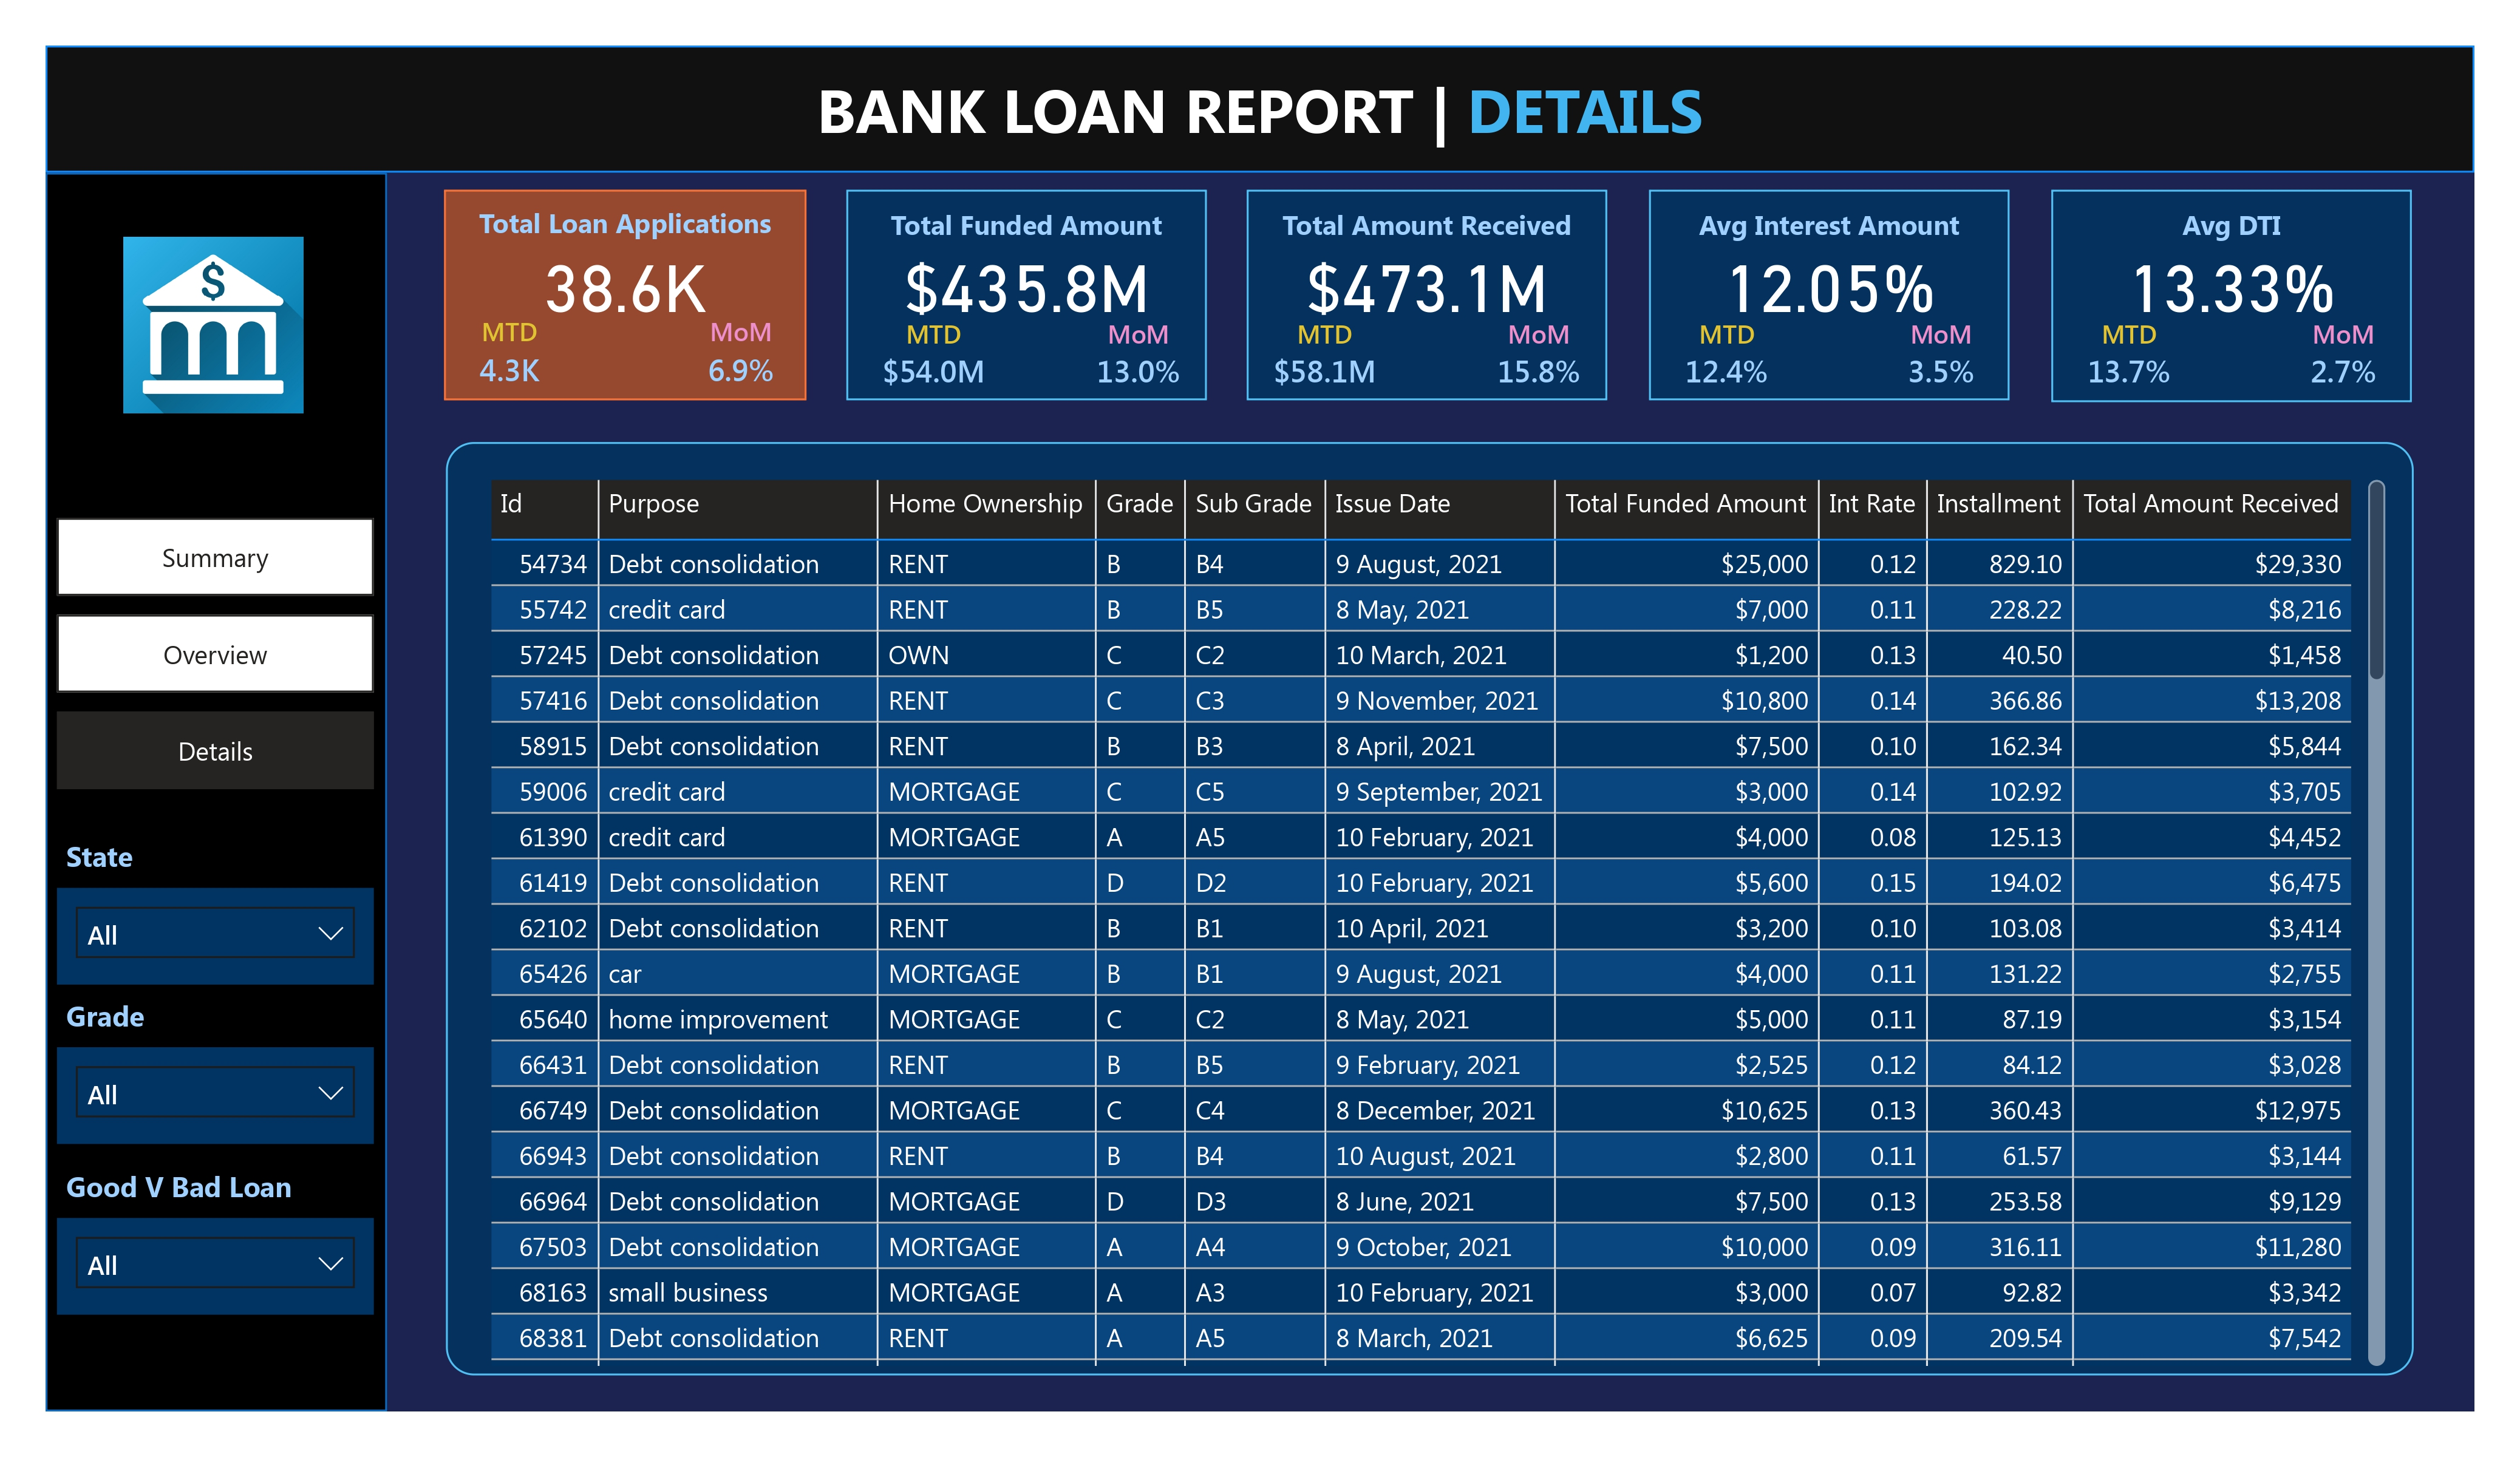

Layout of this report page (visuals, bound fields, positions):
{"tool":"powerbi","page":{"name":"Details","canvas":[1280,720],"ordinal":2},"visuals":[{"type":"group","id":"g1","title":"Group 1","box":[0,0,1280,67.1],"z":0},{"type":"shape","box":[0,0,1280,67.1],"z":0,"group":"g1"},{"type":"slicer","fields":{"Values":["financial_loan.grade"]},"box":[6,528,167,51],"z":0,"group":"g8"},{"type":"slicer","fields":{"Values":["financial_loan.Good Vs Bad Laon"]},"box":[6,618,167,51],"z":0,"group":"g7"},{"type":"textbox","box":[314.3,5.7,651.4,55.7],"z":1000,"group":"g1"},{"type":"shape","box":[0,67.1,180,652.9],"z":1000},{"type":"textbox","box":[6,496,167,32],"z":1000,"group":"g8"},{"type":"textbox","box":[6,586,167,32],"z":1000,"group":"g7"},{"type":"shape","box":[210.4,75.7,190.6,111.4],"z":2000,"group":"g13"},{"type":"shape","box":[421.7,76.2,190,111.4],"z":2000,"group":"g14"},{"type":"shape","box":[633.5,76.2,190,111.4],"z":2000,"group":"g15"},{"type":"shape","box":[845.2,76.2,190,111.4],"z":2000,"group":"g16"},{"type":"shape","box":[1057,76.2,190,111.5],"z":2000,"group":"g17"},{"type":"shape","box":[211,208.5,1036.6,492.7],"z":2000},{"type":"group","id":"g2","title":"Group 2","box":[210.4,75.7,190.6,111.4],"z":3000},{"type":"card","fields":{"Values":["Count(financial_loan.id)"]},"box":[210.4,102.8,190.6,44.3],"z":3000,"group":"g13"},{"type":"textbox","box":[6,412,167,32],"z":3000,"group":"g18"},{"type":"textbox","box":[213.5,78.7,185.3,28.8],"z":4000,"group":"g13"},{"type":"card","fields":{"Values":["financial_loan.Total Funded Amount"]},"box":[421.7,103.3,190,44.3],"z":4000,"group":"g14"},{"type":"card","fields":{"Values":["financial_loan.Total Amount Received"]},"box":[633.5,103.3,190,44.3],"z":4000,"group":"g15"},{"type":"card","fields":{"Values":["financial_loan.Avg Intrest Rate"]},"box":[845.2,103.3,190,44.3],"z":4000,"group":"g16"},{"type":"card","fields":{"Values":["financial_loan.Avg Dti"]},"box":[1056.9,103.3,190,44.3],"z":4000,"group":"g17"},{"type":"group","id":"g3","title":"Group 3","box":[421.7,76.2,190,111.4],"z":5000},{"type":"textbox","box":[430.2,80,173.1,30],"z":5000,"group":"g14"},{"type":"textbox","box":[642,80,173.1,30],"z":5000,"group":"g15"},{"type":"textbox","box":[853.7,80,173.1,30],"z":5000,"group":"g16"},{"type":"textbox","box":[1065.4,80,173.1,30],"z":5000,"group":"g17"},{"type":"card","title":"MTD","fields":{"Values":["financial_loan.MTD Loan Application"]},"box":[218.9,141.9,51.7,45.3],"z":5000,"group":"g13"},{"type":"group","id":"g4","title":"Group 3","box":[633.5,76.2,190,111.4],"z":6000},{"type":"card","title":"MoM","fields":{"Values":["financial_loan.MoM Loan Application"]},"box":[341,141.9,51.4,45.3],"z":6000,"group":"g13"},{"type":"card","title":"MTD","fields":{"Values":["financial_loan.MTD Funeded Amount"]},"box":[430.4,143,74.6,44.6],"z":6000,"group":"g14"},{"type":"card","title":"MTD","fields":{"Values":["financial_loan.MTD Amount Received"]},"box":[641.8,143,66.2,44.6],"z":6000,"group":"g15"},{"type":"card","title":"MTD","fields":{"Values":["financial_loan.MTD Avg Int Rate"]},"box":[853.5,143,66.2,44.6],"z":6000,"group":"g16"},{"type":"card","title":"MTD","fields":{"Values":["financial_loan.MTD Avg DTI Rate"]},"box":[1065.2,143,66.2,44.6],"z":6000,"group":"g17"},{"type":"group","id":"g5","title":"Group 3","box":[845.2,76.2,190,111.4],"z":7000},{"type":"card","title":"MoM","fields":{"Values":["financial_loan.MoM Funded Amount"]},"box":[548.1,143,55.4,44.6],"z":7000,"group":"g14"},{"type":"card","title":"MoM","fields":{"Values":["financial_loan.MoM Amount Received"]},"box":[759.9,143,55.4,44.6],"z":7000,"group":"g15"},{"type":"card","title":"MoM","fields":{"Values":["financial_loan.MoM Avg Int Rate"]},"box":[971.6,143,55.4,44.6],"z":7000,"group":"g16"},{"type":"card","title":"MoM","fields":{"Values":["financial_loan.MoM Avg Dti Rate"]},"box":[1183.3,143,55.4,44.6],"z":7000,"group":"g17"},{"type":"group","id":"g6","title":"Group 3","box":[1056.9,76.2,190.1,111.5],"z":8000},{"type":"group","id":"g7","title":"Group 13","box":[6,586,168,82],"z":9000},{"type":"slicer","fields":{"Values":["financial_loan.address_state"]},"box":[6,444,167,51],"z":9001,"group":"g18"},{"type":"group","id":"g8","title":"Group 14","box":[6,496,168,84],"z":10000},{"type":"group","id":"g9","title":"Group 4","box":[421.7,76.2,190,111.4],"z":10002,"group":"g3"},{"type":"group","id":"g10","title":"Group 4","box":[633.5,76.2,190,111.4],"z":10002,"group":"g4"},{"type":"group","id":"g11","title":"Group 4","box":[845.2,76.2,190,111.4],"z":10002,"group":"g5"},{"type":"group","id":"g12","title":"Group 4","box":[1056.9,76.2,190.1,111.5],"z":10002,"group":"g6"},{"type":"group","id":"g13","title":"Group 9","box":[210.4,75.7,190.6,111.4],"z":10006,"group":"g2"},{"type":"group","id":"g14","title":"Group 8","box":[421.7,76.2,190,111.4],"z":10006,"group":"g9"},{"type":"group","id":"g15","title":"Group 7","box":[633.5,76.2,190,111.4],"z":10006,"group":"g10"},{"type":"group","id":"g16","title":"Group 6","box":[845.2,76.2,190,111.4],"z":10006,"group":"g11"},{"type":"group","id":"g17","title":"Group 5","box":[1056.9,76.2,190.1,111.5],"z":10006,"group":"g12"},{"type":"group","id":"g18","title":"Group 15","box":[6,412,168,82],"z":11000},{"type":"tableEx","fields":{"Values":["financial_loan.id","financial_loan.purpose","financial_loan.home_ownership","financial_loan.grade","financial_loan.sub_grade","financial_loan.issue_date","financial_loan.Total Funded Amount","Sum(financial_loan.int_rate)","Sum(financial_loan.installment)","financial_loan.Total Amount Received"]},"box":[229.3,224.4,1008.5,476.8],"z":13000},{"type":"pageNavigator","box":[6,248.8,166.7,145.2],"z":13001},{"type":"image","box":[19,96.4,139.3,102.4],"z":13002}]}

Visuals, with their boxes on the page's 1280x720 design canvas (x1, y1, x2, y2). These are canvas units, not pixel positions in the 2520x1457 screenshot, which may show the page scaled, cropped or inside an application window:
"Group 1" group: <box>0,0,1280,67</box>
shape: <box>0,0,1280,67</box>
slicer - financial_loan.grade: <box>6,528,173,579</box>
slicer - financial_loan.Good Vs Bad Laon: <box>6,618,173,669</box>
textbox: <box>314,6,966,61</box>
shape: <box>0,67,180,720</box>
textbox: <box>6,496,173,528</box>
textbox: <box>6,586,173,618</box>
shape: <box>210,76,401,187</box>
shape: <box>422,76,612,188</box>
shape: <box>634,76,824,188</box>
shape: <box>845,76,1035,188</box>
shape: <box>1057,76,1247,188</box>
shape: <box>211,208,1248,701</box>
"Group 2" group: <box>210,76,401,187</box>
card - Count(financial_loan.id): <box>210,103,401,147</box>
textbox: <box>6,412,173,444</box>
textbox: <box>214,79,399,108</box>
card - financial_loan.Total Funded Amount: <box>422,103,612,148</box>
card - financial_loan.Total Amount Received: <box>634,103,824,148</box>
card - financial_loan.Avg Intrest Rate: <box>845,103,1035,148</box>
card - financial_loan.Avg Dti: <box>1057,103,1247,148</box>
"Group 3" group: <box>422,76,612,188</box>
textbox: <box>430,80,603,110</box>
textbox: <box>642,80,815,110</box>
textbox: <box>854,80,1027,110</box>
textbox: <box>1065,80,1238,110</box>
"MTD" card: <box>219,142,271,187</box>
"Group 3" group: <box>634,76,824,188</box>
"MoM" card: <box>341,142,392,187</box>
"MTD" card: <box>430,143,505,188</box>
"MTD" card: <box>642,143,708,188</box>
"MTD" card: <box>854,143,920,188</box>
"MTD" card: <box>1065,143,1131,188</box>
"Group 3" group: <box>845,76,1035,188</box>
"MoM" card: <box>548,143,604,188</box>
"MoM" card: <box>760,143,815,188</box>
"MoM" card: <box>972,143,1027,188</box>
"MoM" card: <box>1183,143,1239,188</box>
"Group 3" group: <box>1057,76,1247,188</box>
"Group 13" group: <box>6,586,174,668</box>
slicer - financial_loan.address_state: <box>6,444,173,495</box>
"Group 14" group: <box>6,496,174,580</box>
"Group 4" group: <box>422,76,612,188</box>
"Group 4" group: <box>634,76,824,188</box>
"Group 4" group: <box>845,76,1035,188</box>
"Group 4" group: <box>1057,76,1247,188</box>
"Group 9" group: <box>210,76,401,187</box>
"Group 8" group: <box>422,76,612,188</box>
"Group 7" group: <box>634,76,824,188</box>
"Group 6" group: <box>845,76,1035,188</box>
"Group 5" group: <box>1057,76,1247,188</box>
"Group 15" group: <box>6,412,174,494</box>
tableEx - financial_loan.id x financial_loan.purpose: <box>229,224,1238,701</box>
pageNavigator: <box>6,249,173,394</box>
image: <box>19,96,158,199</box>
